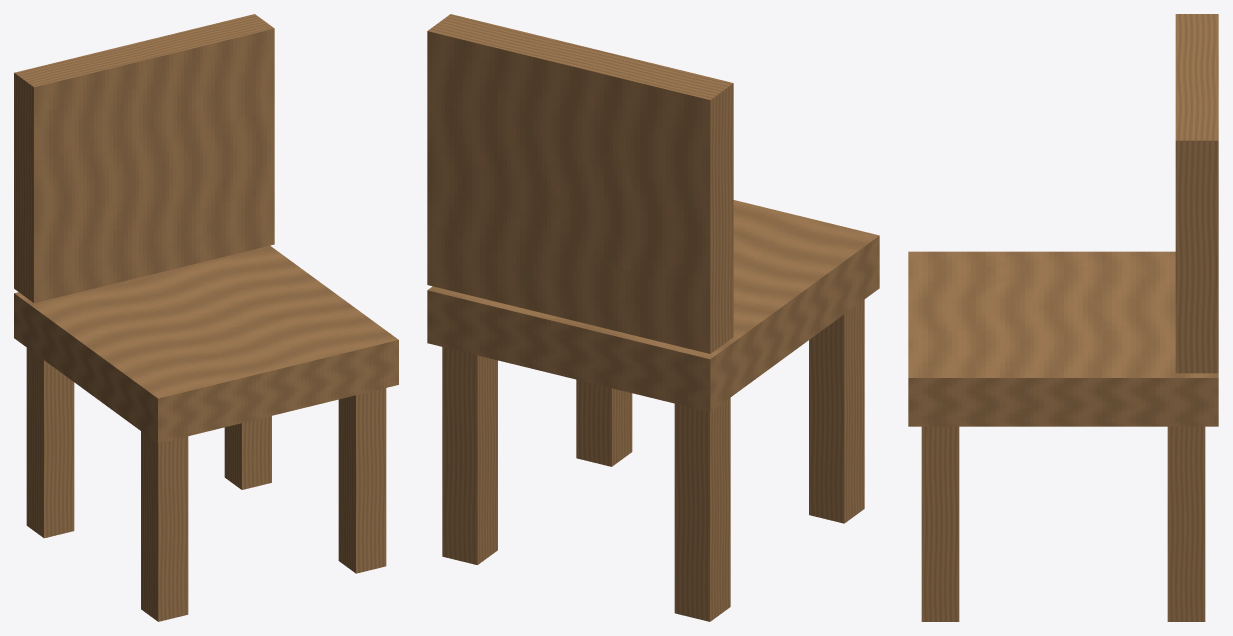
3 renders of one model, left to right at view 1: azimuth 30°, elevation 25°; view 2: azimuth 150°, elevation 25°; view 3: azimuth 270°, elevation 25°, orthographic. The views are drawn at different scales.
Parts seen in each view (by area): view 1: Eichenstuhl; view 2: Eichenstuhl; view 3: Eichenstuhl.
Part boxes in pixels (x1,y1,x2,y2): Eichenstuhl: [14, 14, 398, 621]; Eichenstuhl: [427, 14, 879, 621]; Eichenstuhl: [908, 14, 1218, 621].
Size of the model in its own units: 0.56 by 1 by 0.58.
1 material, 1 textured.
